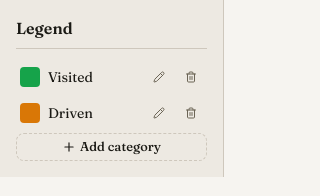
Test case: LegendPanel › shows the edit form when the pencil button is clicked
The image size is (320, 196).
Click the button named "edit visited": (159, 77) [147,65,171,89]
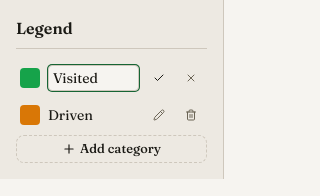
Now the field named "legend name" is shown, box [48,65,139,91]
Now the button named "save visited" is shown, box [147,66,171,90]
Now the button named "cancel edit" is shown, box [179,66,203,90]
